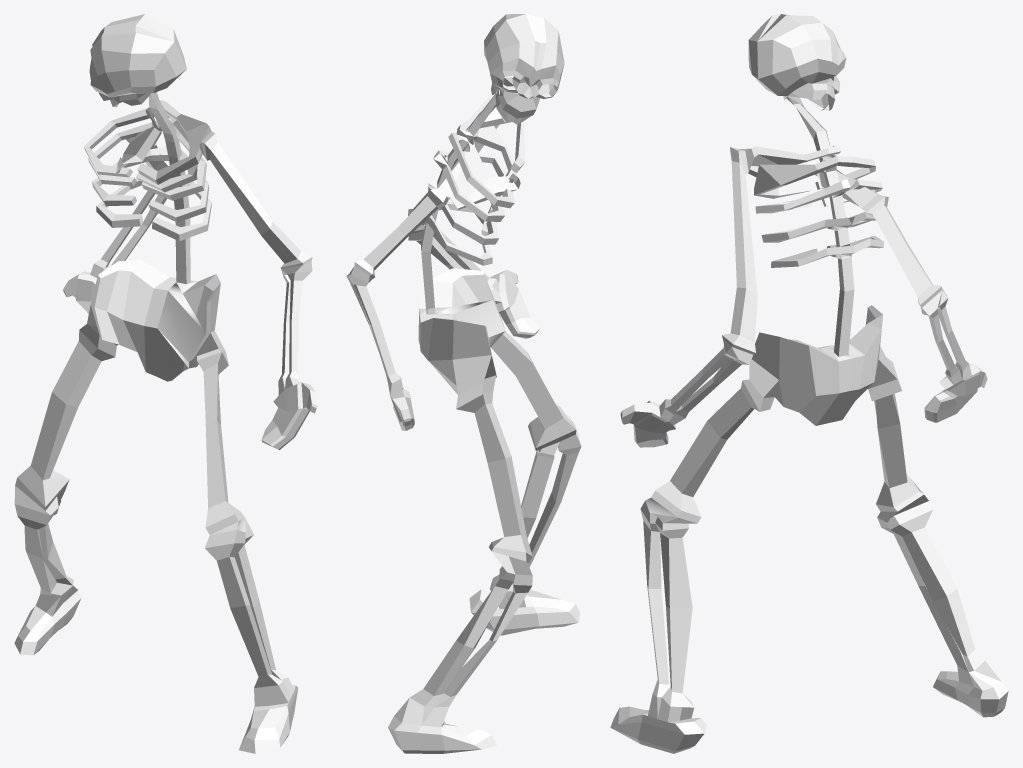
The model's file is SkeletonIdle(63).obj.
3 renders of one model, left to right at view 1: azimuth 30°, elevation 25°; view 2: azimuth 150°, elevation 25°; view 3: azimuth 270°, elevation 25°, orthographic. The views are drawn at different scales.
Parts seen in each view (by area): view 1: Object002; view 2: Object002; view 3: Object002.
Boxes of the visible parts, box(x1,y1,x2,y2) form: Object002: box(14, 14, 317, 753); Object002: box(346, 14, 581, 753); Object002: box(610, 14, 1008, 753).
Size of the model in its own units: 366 by 1126 by 587.
